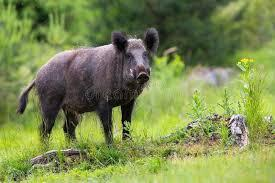wildboar: (11, 25, 162, 152)
